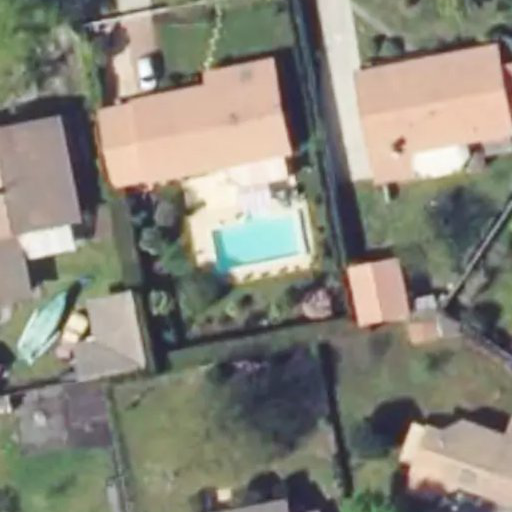pool: (212, 213, 306, 270)
